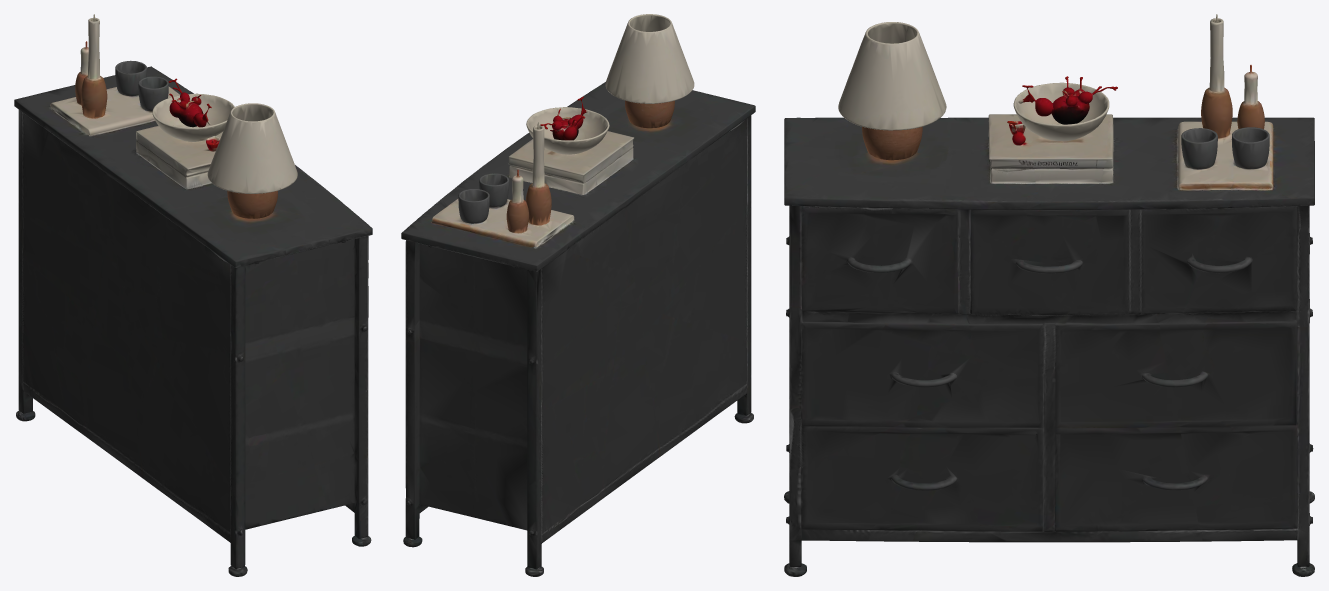
The model's file is B0FJLT8YMZ.glb.
The picture shows the model from 3 angles, left to right: view 1: azimuth 30°, elevation 25°; view 2: azimuth 150°, elevation 25°; view 3: azimuth 270°, elevation 25°; orthographic projection. The views are drawn at different scales.
Parts seen in each view (by area): view 1: tripo_node_423a68d6-1d93-46e3-a5ff-2fd1f35f358e; view 2: tripo_node_423a68d6-1d93-46e3-a5ff-2fd1f35f358e; view 3: tripo_node_423a68d6-1d93-46e3-a5ff-2fd1f35f358e.
Boxes of the visible parts, left/top/right/bottom form: tripo_node_423a68d6-1d93-46e3-a5ff-2fd1f35f358e: left=14, top=14, right=372, bottom=576; tripo_node_423a68d6-1d93-46e3-a5ff-2fd1f35f358e: left=401, top=14, right=755, bottom=576; tripo_node_423a68d6-1d93-46e3-a5ff-2fd1f35f358e: left=784, top=14, right=1314, bottom=576.
Bounding box in the file's own units: 0.3913 × 0.9999 × 0.9496.
1 material, 1 textured.
